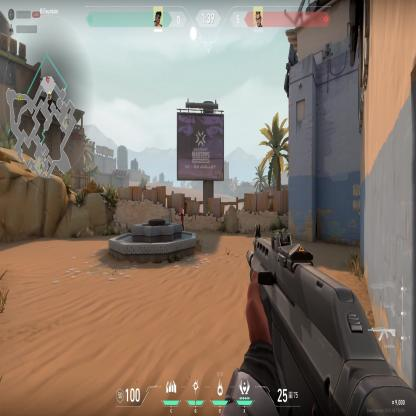enemy: (179, 205, 185, 231)
